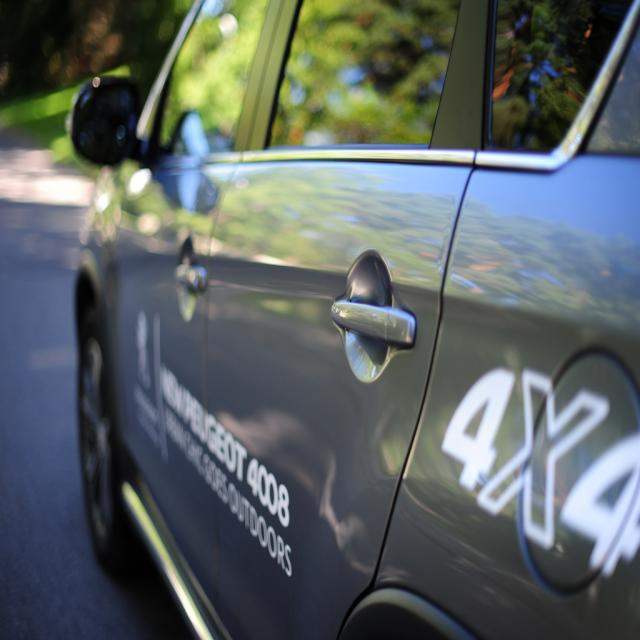other: (72, 5, 615, 640)
